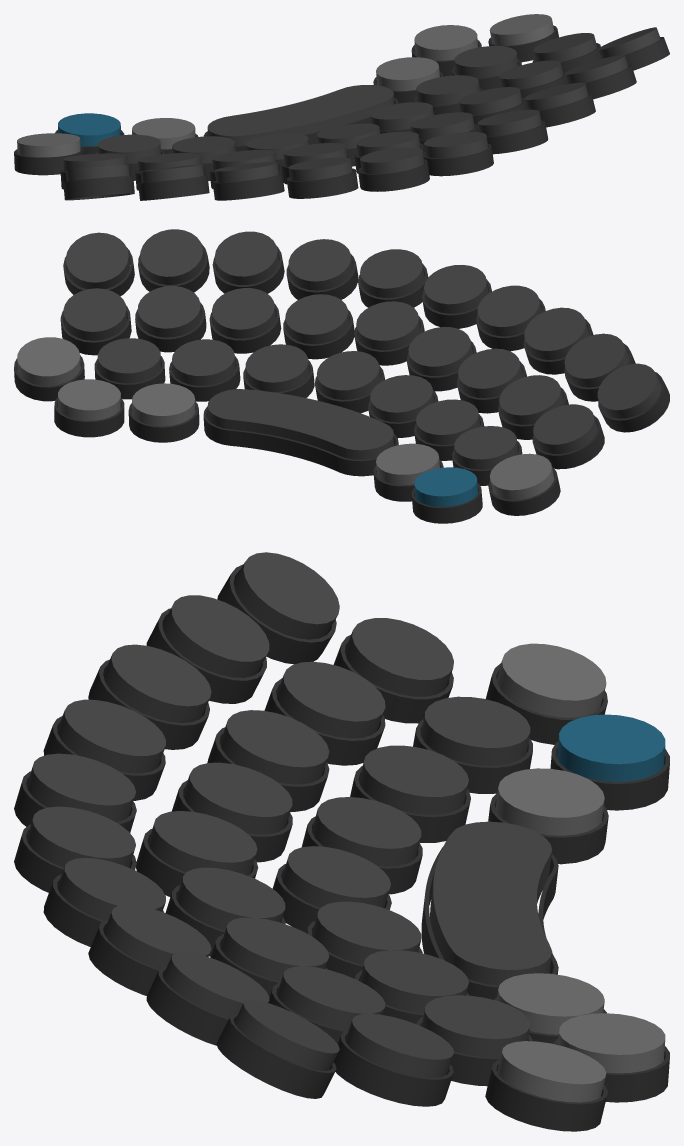
Rendered from Punchkeyboard_2.0.fbx.
3 renders of one model, top to bottom at view 1: azimuth 30°, elevation 25°; view 2: azimuth 150°, elevation 25°; view 3: azimuth 270°, elevation 25°, orthographic. The views are drawn at different scales.
Parts seen in each view (by area): view 1: _SpaceKey, _SpecialKey, _CommaKey, _ZKey, _ShiftKey, _ReturnKey, _XKey, Housing_10, _YKey, _TKey, _BackspaceKey, _DKey (+39 smaller); view 2: _SpaceKey, Housing_27, _QKey, _WKey, _EKey, _AKey, _SKey, _RKey, _PKey, _DKey, _FKey, _ShiftKey (+53 smaller); view 3: _SpaceKey, _PKey, _LKey, _BackspaceKey, _OKey, _KKey, _ReturnKey, _MKey, _IKey, _PeriodKey, _NKey, _JKey (+49 smaller).
Boxes of the visible parts, x1,y1,x2,y2 form: _SpaceKey: (207, 85, 394, 145); _SpecialKey: (414, 25, 478, 60); _CommaKey: (376, 57, 439, 90); _ZKey: (454, 46, 518, 77); _ShiftKey: (489, 14, 554, 45); _ReturnKey: (58, 113, 120, 146); _XKey: (416, 75, 479, 105); Housing_10: (63, 176, 134, 200); _YKey: (360, 147, 424, 173); _TKey: (424, 132, 488, 158); _BackspaceKey: (17, 133, 80, 157); _DKey: (458, 87, 522, 115); _SpaceKey: (207, 389, 394, 459); Housing_27: (203, 406, 398, 476); _QKey: (65, 232, 129, 289); _WKey: (140, 229, 204, 284); _EKey: (214, 231, 279, 284); _AKey: (63, 288, 127, 340); _SKey: (137, 286, 201, 337); _RKey: (288, 239, 353, 290); _PKey: (597, 363, 661, 418); _DKey: (212, 288, 276, 338); _FKey: (285, 294, 349, 344); _ShiftKey: (17, 337, 80, 385); _SpaceKey: (430, 821, 552, 985); _PKey: (233, 552, 339, 639); _LKey: (345, 618, 453, 696); _BackspaceKey: (497, 643, 606, 717); _OKey: (162, 595, 269, 677); _KKey: (276, 661, 385, 738); _ReturnKey: (557, 714, 665, 781); _MKey: (421, 696, 530, 765); _IKey: (103, 644, 211, 722); _PeriodKey: (495, 768, 604, 835); _NKey: (359, 745, 468, 814); _JKey: (220, 710, 329, 784).
Size of the model in its own units: 78.42 by 11.9 by 44.01.
